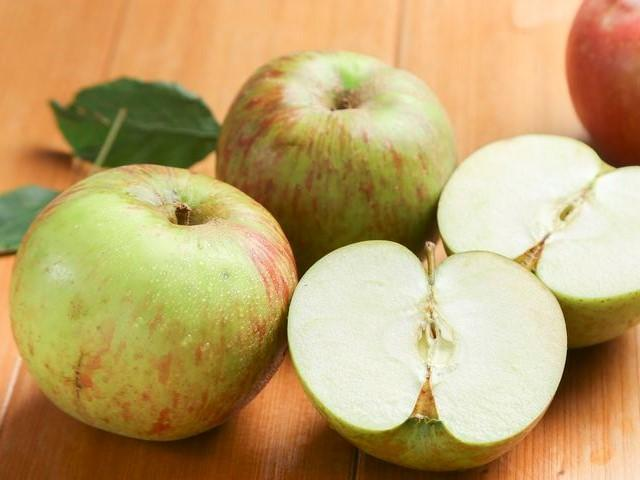apple: (7, 164, 297, 441), (288, 237, 571, 470), (214, 46, 461, 275), (437, 134, 640, 351), (563, 1, 640, 166)
